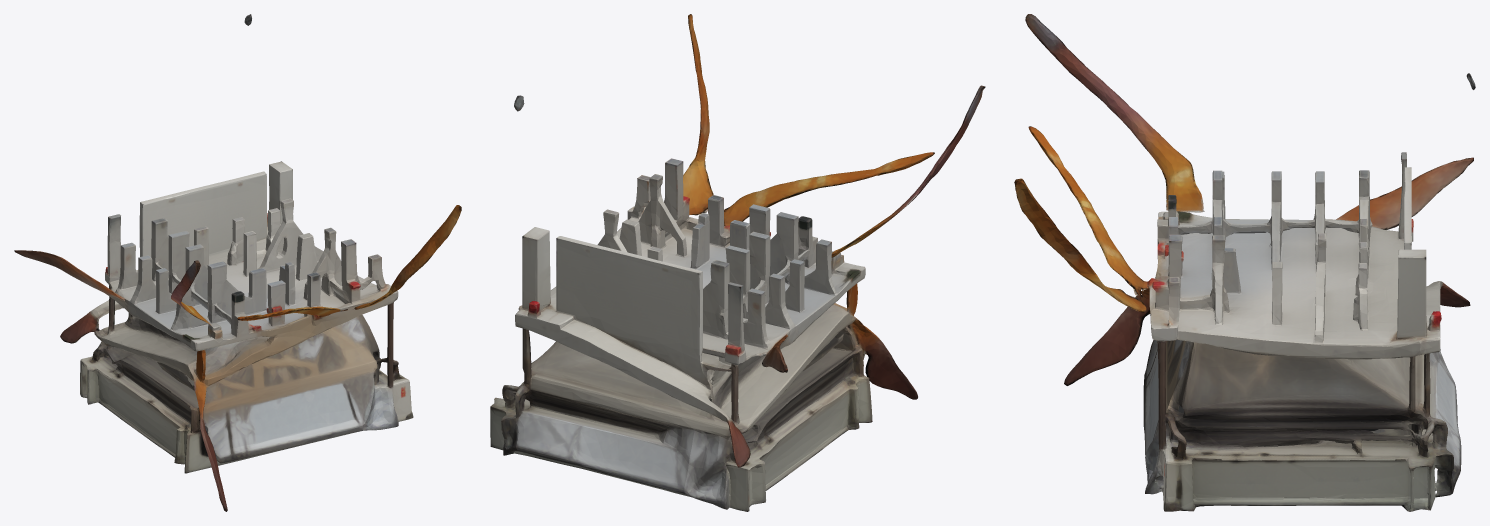
The model's file is apollo-11-17.glb.
The picture shows the model from 3 angles, left to right: view 1: azimuth 30°, elevation 25°; view 2: azimuth 150°, elevation 25°; view 3: azimuth 270°, elevation 25°; orthographic projection. The views are drawn at different scales.
Parts seen in each view (by area): view 1: world; view 2: world; view 3: world.
Part boxes in pixels (<box>): world: <box>14,14,461,511</box>; world: <box>490,14,985,511</box>; world: <box>1014,14,1475,511</box>.
Size of the model in its own units: 0.8695 by 1 by 0.9853.
Materials: 1 (1 with a texture image).
